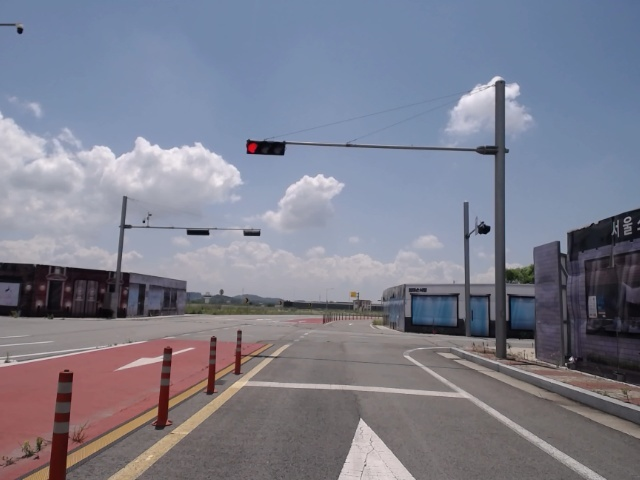red_3: (242, 138, 285, 155)
